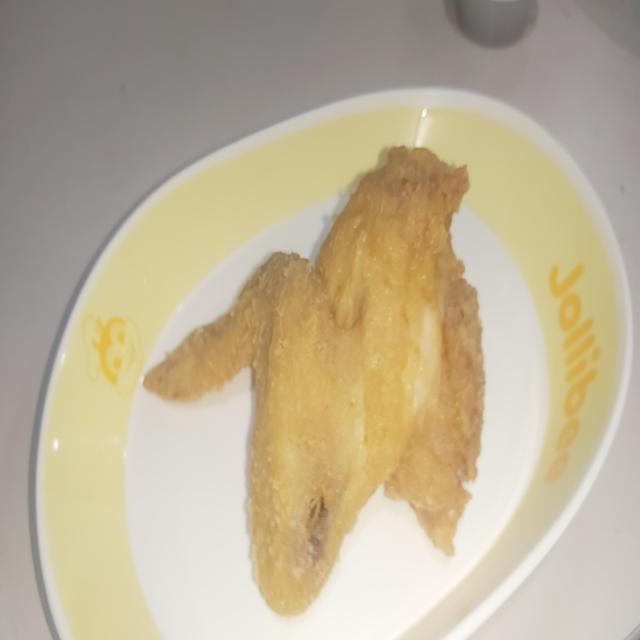Chicken -Fried Chicken-: (144, 156, 498, 570)
